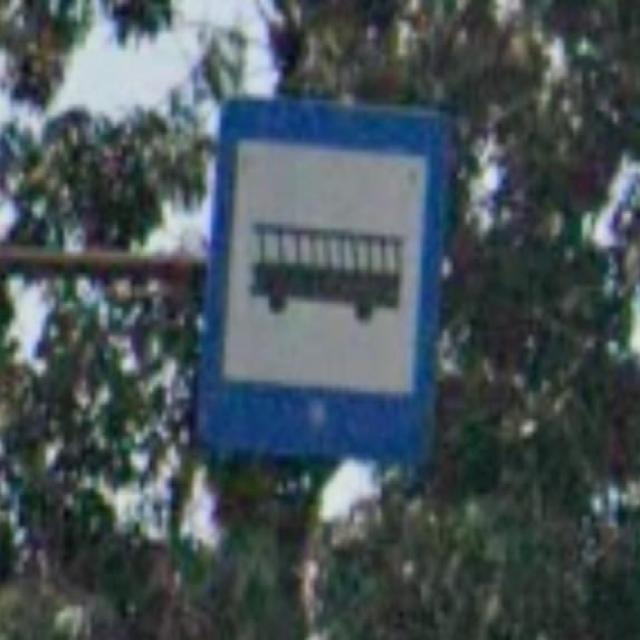traffic sign: (198, 97, 447, 467)
